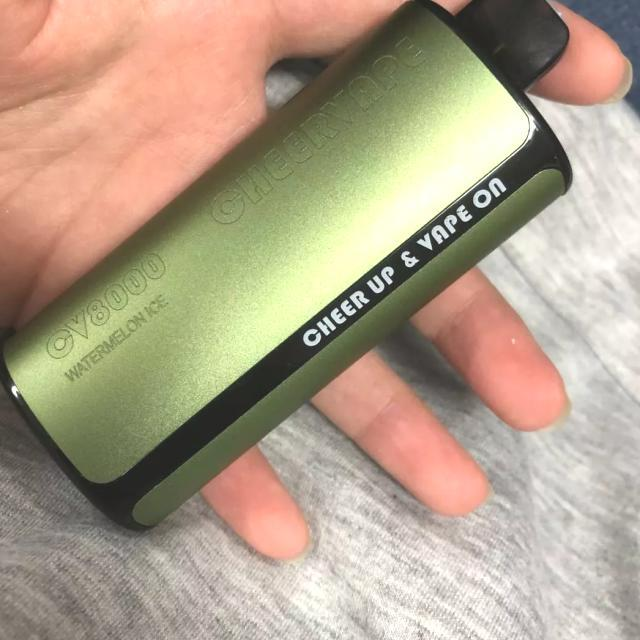Hazard: (1, 0, 574, 534)
